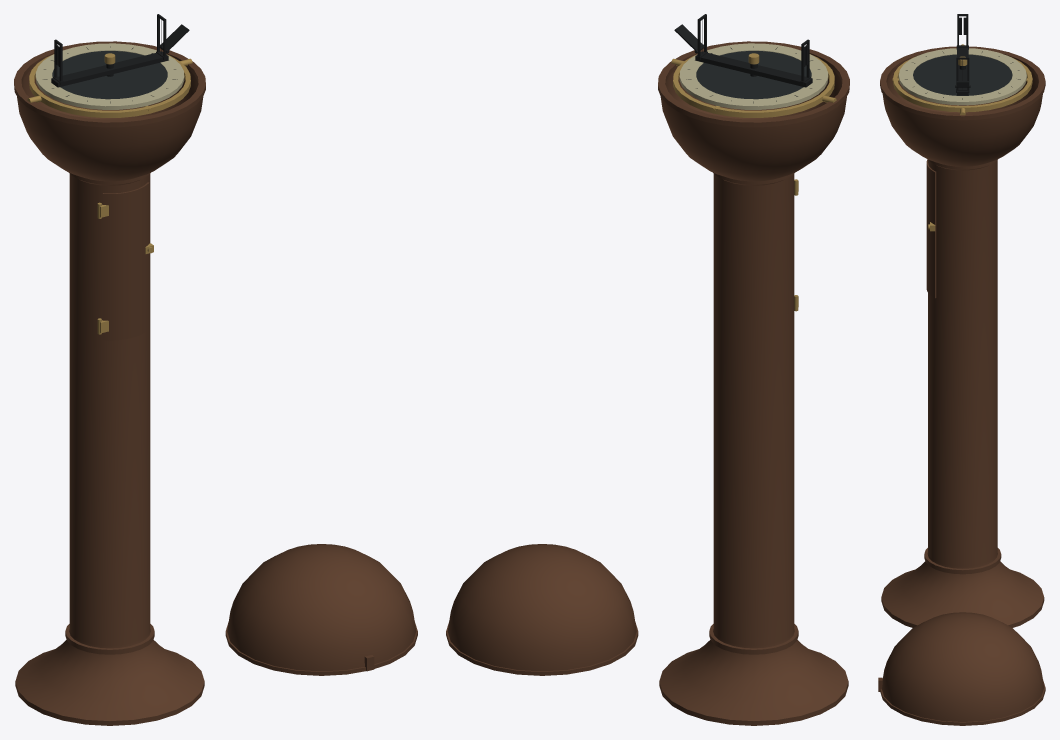
The model's file is NEW687_Pelorus_LOD2_v001.glb.
The picture shows the model from 3 angles, left to right: view 1: azimuth 30°, elevation 25°; view 2: azimuth 150°, elevation 25°; view 3: azimuth 270°, elevation 25°; orthographic projection. The views are drawn at different scales.
Parts seen in each view (by area): view 1: Pedestal_foot_column, Detached_complete_hood, Upper_bowl, Curved_access_door, Azimuth_plate_brass_rim, Dark_glass_dial_face, Bowl_rim, External_gimbal_ring, Black_alidade, Hood_lower_band, Lower_column_collar; view 2: Pedestal_foot_column, Detached_complete_hood, Upper_bowl, Azimuth_plate_brass_rim, Dark_glass_dial_face, Bowl_rim, External_gimbal_ring, Black_alidade, Hood_lower_band, Lower_column_collar; view 3: Pedestal_foot_column, Detached_complete_hood, Upper_bowl, Dark_glass_dial_face, Azimuth_plate_brass_rim, Bowl_rim, Curved_access_door, External_gimbal_ring, Hood_lower_band, Lower_column_collar, Black_alidade.
Boxes of the visible parts, box(x1,y1,x2,y2) form: Pedestal_foot_column: box(15, 172, 204, 725); Detached_complete_hood: box(227, 544, 416, 671); Upper_bowl: box(17, 69, 203, 181); Curved_access_door: box(102, 182, 149, 340); Azimuth_plate_brass_rim: box(35, 43, 184, 109); Dark_glass_dial_face: box(52, 51, 167, 99); Bowl_rim: box(14, 41, 205, 127); External_gimbal_ring: box(29, 54, 190, 117); Black_alidade: box(51, 51, 168, 87); Hood_lower_band: box(225, 621, 417, 675); Lower_column_collar: box(65, 624, 154, 654); Pedestal_foot_column: box(659, 172, 848, 725); Detached_complete_hood: box(447, 544, 636, 671); Upper_bowl: box(660, 69, 846, 181); Azimuth_plate_brass_rim: box(679, 43, 828, 109); Dark_glass_dial_face: box(696, 51, 811, 99); Bowl_rim: box(658, 41, 849, 127); External_gimbal_ring: box(673, 54, 834, 117); Black_alidade: box(695, 51, 812, 87); Hood_lower_band: box(446, 621, 638, 675); Lower_column_collar: box(709, 624, 798, 654); Pedestal_foot_column: box(881, 159, 1044, 627); Detached_complete_hood: box(882, 612, 1044, 721); Upper_bowl: box(882, 70, 1042, 166); Dark_glass_dial_face: box(913, 54, 1012, 95); Azimuth_plate_brass_rim: box(898, 48, 1026, 105); Bowl_rim: box(880, 46, 1045, 120); Curved_access_door: box(926, 159, 936, 298); External_gimbal_ring: box(893, 57, 1032, 112); Hood_lower_band: box(880, 680, 1045, 725); Lower_column_collar: box(924, 548, 1001, 574); Black_alidade: box(957, 45, 968, 95).
Bounding box in the file's own units: 0.822 × 1.36 × 0.3655.
